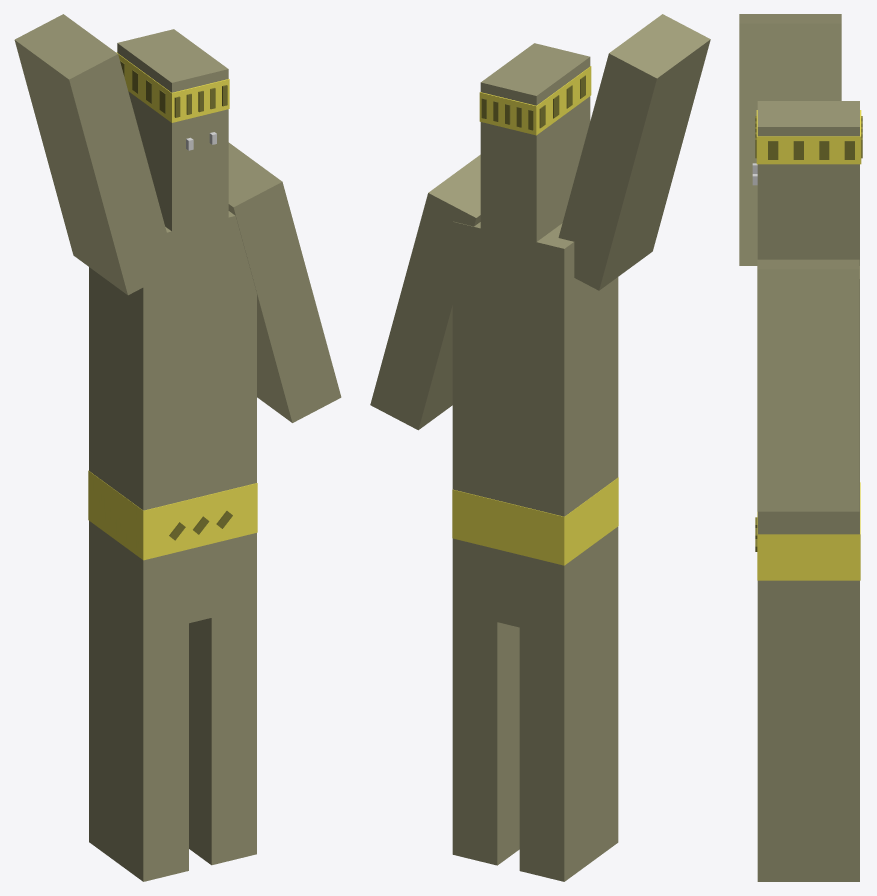
Rendered from RisingStarFan.fbx.
The picture shows the model from 3 angles, left to right: view 1: azimuth 30°, elevation 25°; view 2: azimuth 150°, elevation 25°; view 3: azimuth 270°, elevation 25°; orthographic projection. The views are drawn at different scales.
Parts seen in each view (by area): view 1: Cube.001, Cube.030, Cube.007; view 2: Cube.001, Cube.030, Cube.007; view 3: Cube.001, Cube.030, Cube.007.
Boxes of the visible parts, x1,y1,x2,y2 form: Cube.001: [14, 14, 341, 881]; Cube.030: [88, 470, 257, 560]; Cube.007: [116, 52, 229, 122]; Cube.001: [370, 14, 710, 881]; Cube.030: [452, 477, 618, 565]; Cube.007: [479, 66, 591, 135]; Cube.001: [739, 14, 859, 881]; Cube.030: [757, 482, 860, 580]; Cube.007: [756, 110, 861, 164].
Bounding box in the file's own units: 59.61 × 170 × 24.12.
